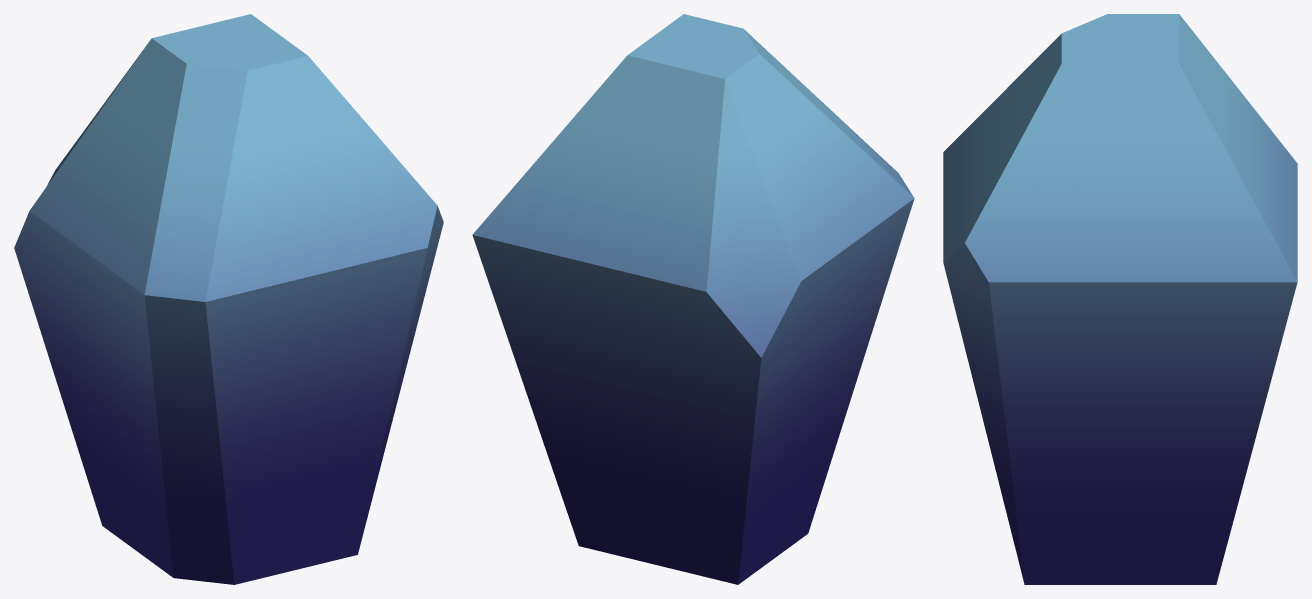
File: Crystal.fbx
3 views of the same model, side by side, from view 1: azimuth 30°, elevation 25°; view 2: azimuth 150°, elevation 25°; view 3: azimuth 270°, elevation 25° (orthographic). The views are drawn at different scales.
Parts seen in each view (by area): view 1: Crystal; view 2: Crystal; view 3: Crystal.
Part boxes in pixels (<box>): Crystal: <box>14,14,443,584</box>; Crystal: <box>472,14,914,584</box>; Crystal: <box>943,14,1297,584</box>.
Bounding box in the file's own units: 23.27 × 36.67 × 23.27.
